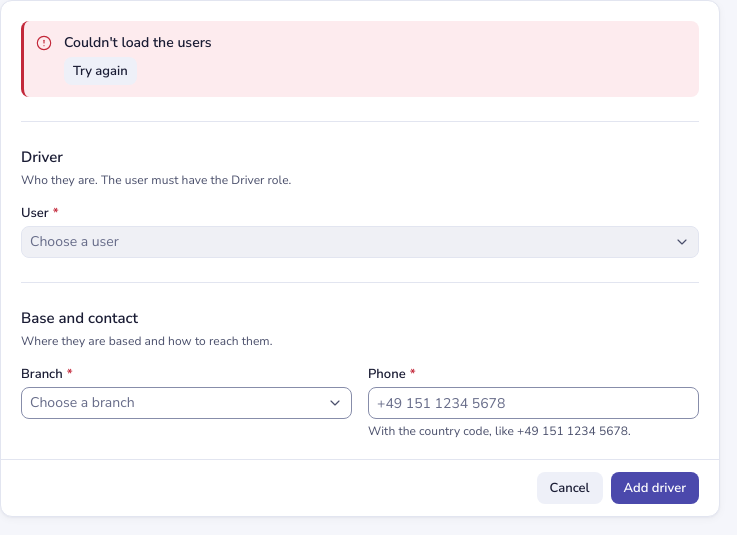
Test: DriverForm › adding a driver › offers a retry when the users cannot be loaded
This screenshot has width=737, height=535.
Click the button "Try again" at (100, 71), box [64, 57, 137, 85]
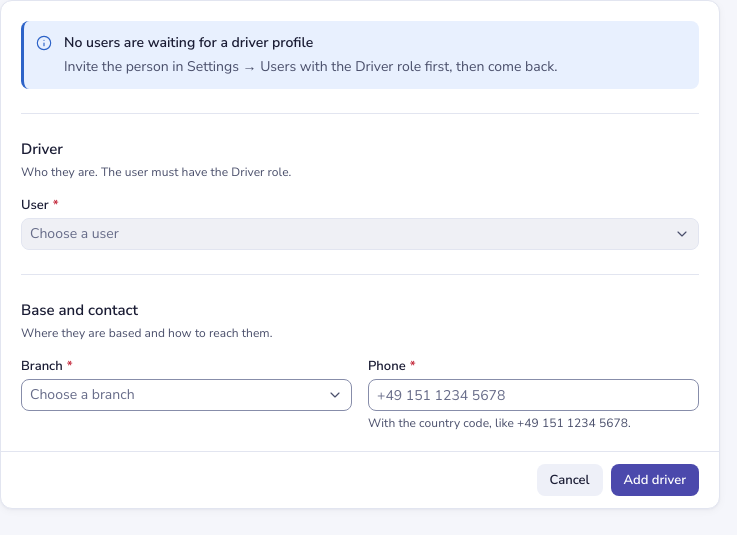
Expected: the text "No users are waiting for a driver profile" is shown, [64, 33, 313, 52]
